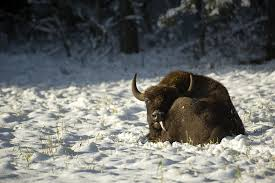zubr: (118, 57, 256, 153)
